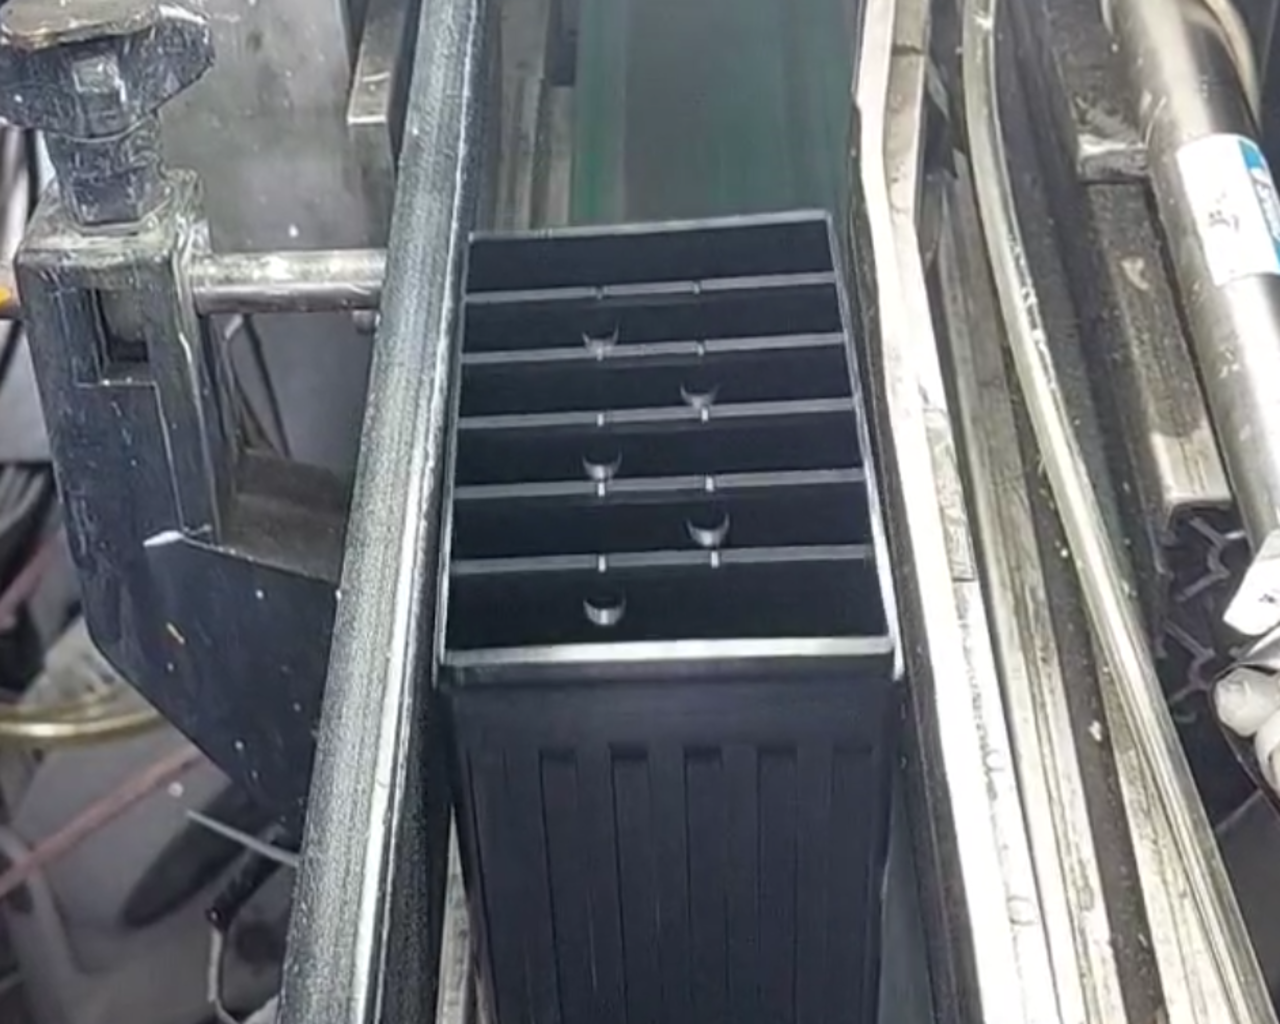box: (420, 191, 917, 707)
round: (679, 496, 742, 555), (572, 579, 637, 633), (572, 434, 630, 486), (670, 363, 727, 413), (571, 305, 624, 353)
